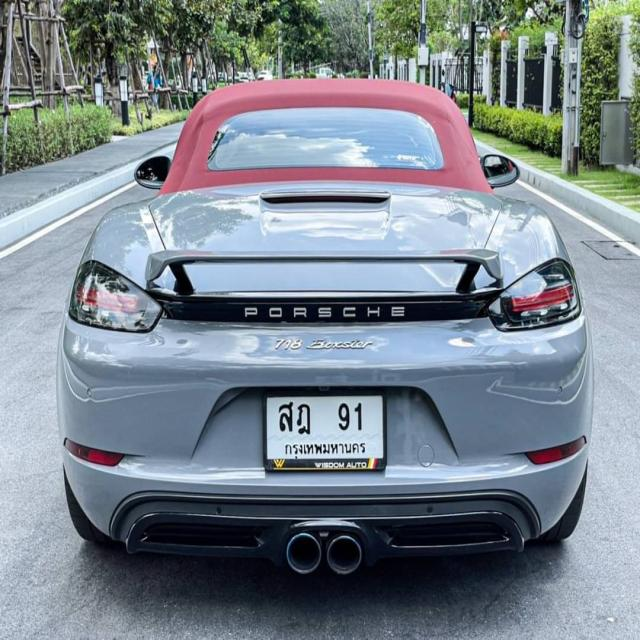license_plate: (263, 388, 390, 474)
